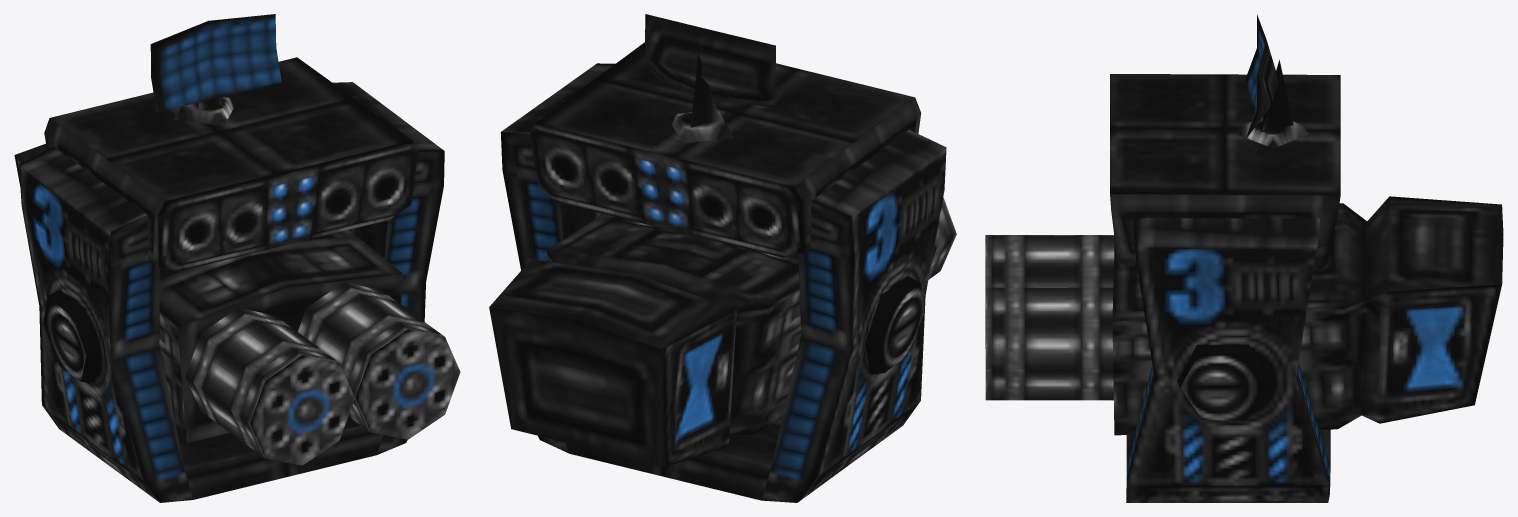
Rendered from sentry3.glb.
The picture shows the model from 3 angles, left to right: view 1: azimuth 30°, elevation 25°; view 2: azimuth 150°, elevation 25°; view 3: azimuth 270°, elevation 25°; orthographic projection. The views are drawn at different scales.
Parts seen in each view (by area): view 1: sentry3; view 2: sentry3; view 3: sentry3.
Boxes of the visible parts, left/top/right/bottom form: sentry3: left=14, top=14, right=460, bottom=502; sentry3: left=489, top=14, right=956, bottom=502; sentry3: left=985, top=14, right=1503, bottom=502.
Bounding box in the file's own units: 39.11 × 43.46 × 50.22.
2 materials, 2 textured.
